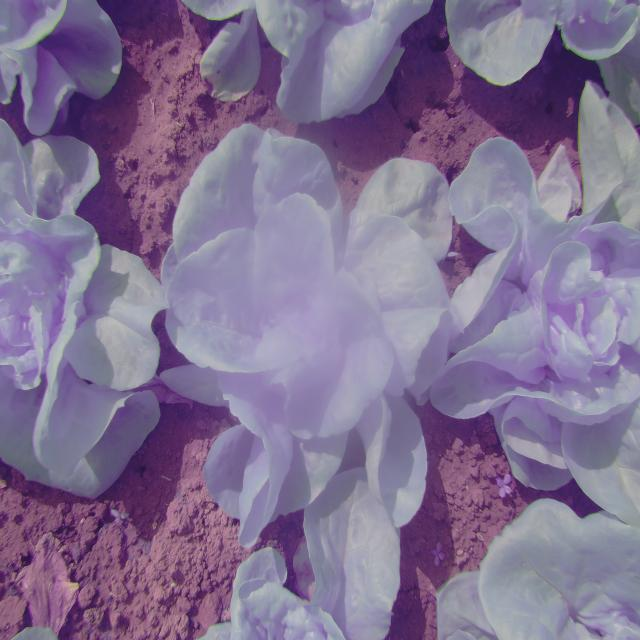vege: (150, 120, 463, 547)
